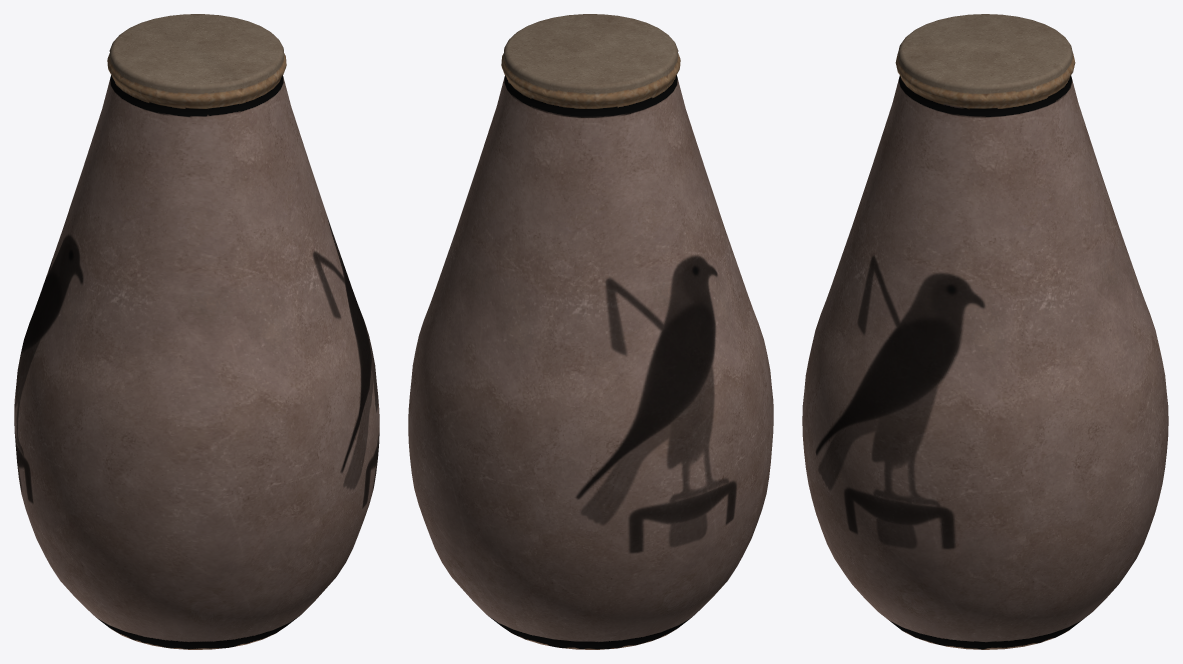
The picture shows the model from 3 angles, left to right: view 1: azimuth 30°, elevation 25°; view 2: azimuth 150°, elevation 25°; view 3: azimuth 270°, elevation 25°; orthographic projection.
Parts seen in each view (by area): view 1: Clay_Pottery; view 2: Clay_Pottery; view 3: Clay_Pottery.
Part boxes in pixels (bbox=[...]): Clay_Pottery: bbox=[14, 14, 379, 649]; Clay_Pottery: bbox=[408, 14, 773, 649]; Clay_Pottery: bbox=[802, 14, 1168, 649].
Size of the model in its own units: 149 by 250 by 149.
Materials: 1 (1 with a texture image).
